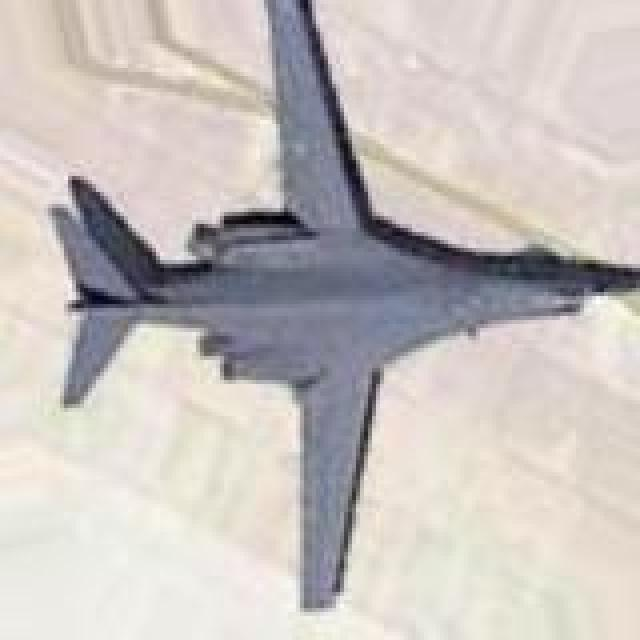B-1_TopDown: (40, 0, 636, 608)
